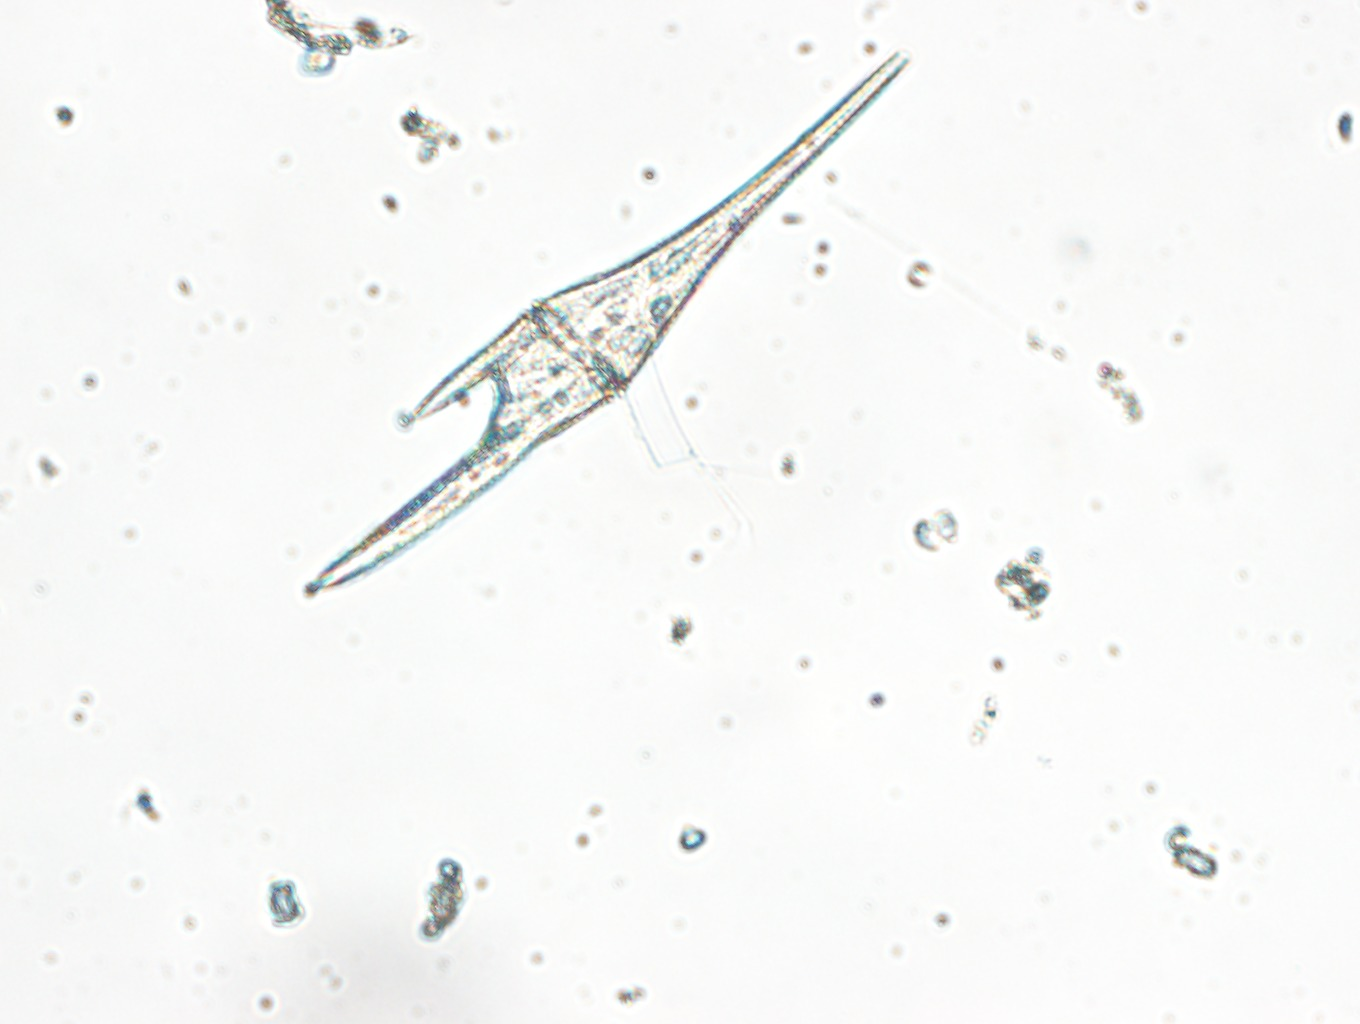ceratium furca: (316, 48, 911, 593)
